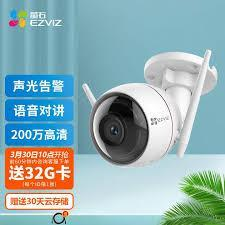maru: (90, 78, 194, 172)
